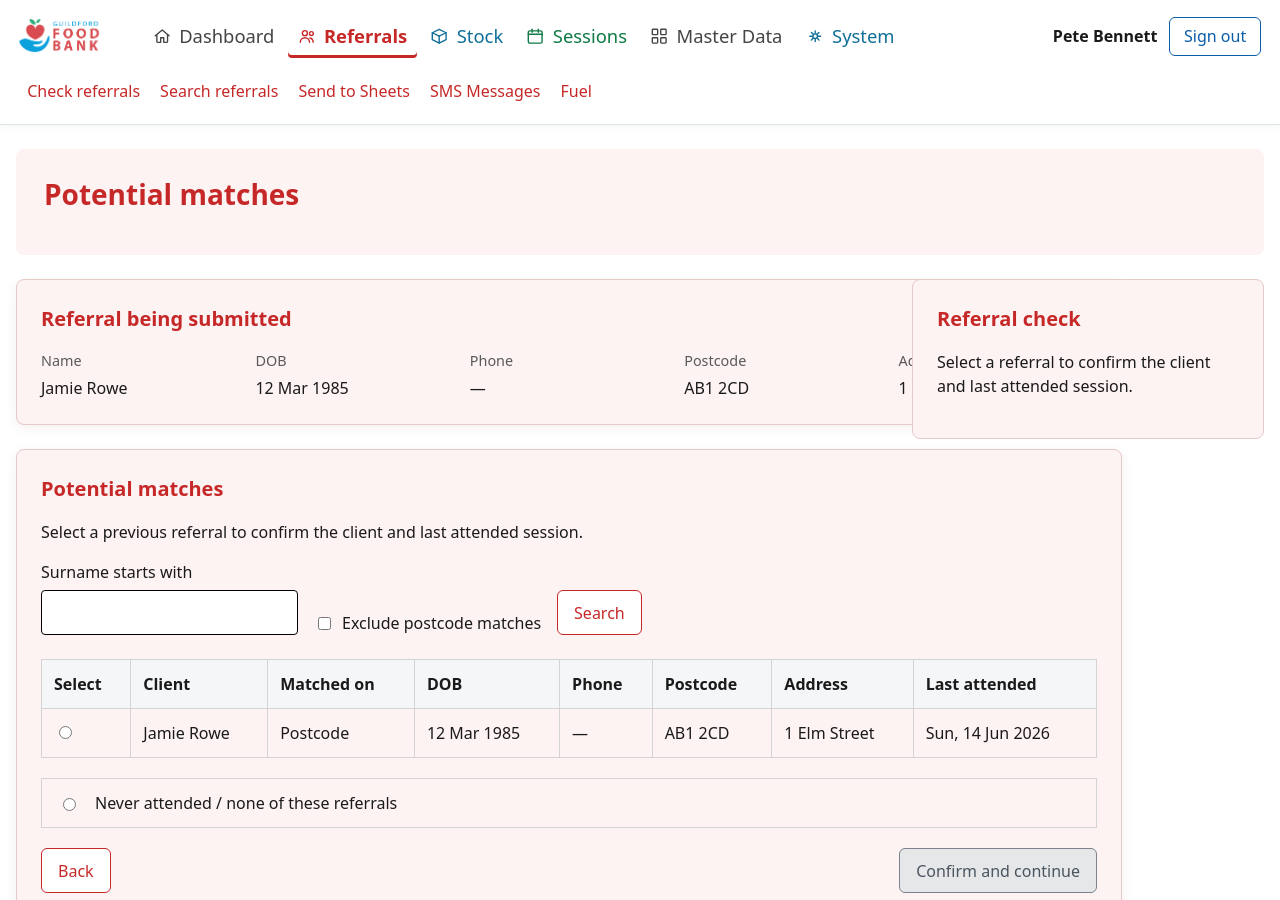
it: the admin referral detail screen › returns to the referral with a previous-referrals summary and revisit link after saving
Click the radio button named "Select Jamie Rowe": coordinates (66, 733) [59,726,72,739]
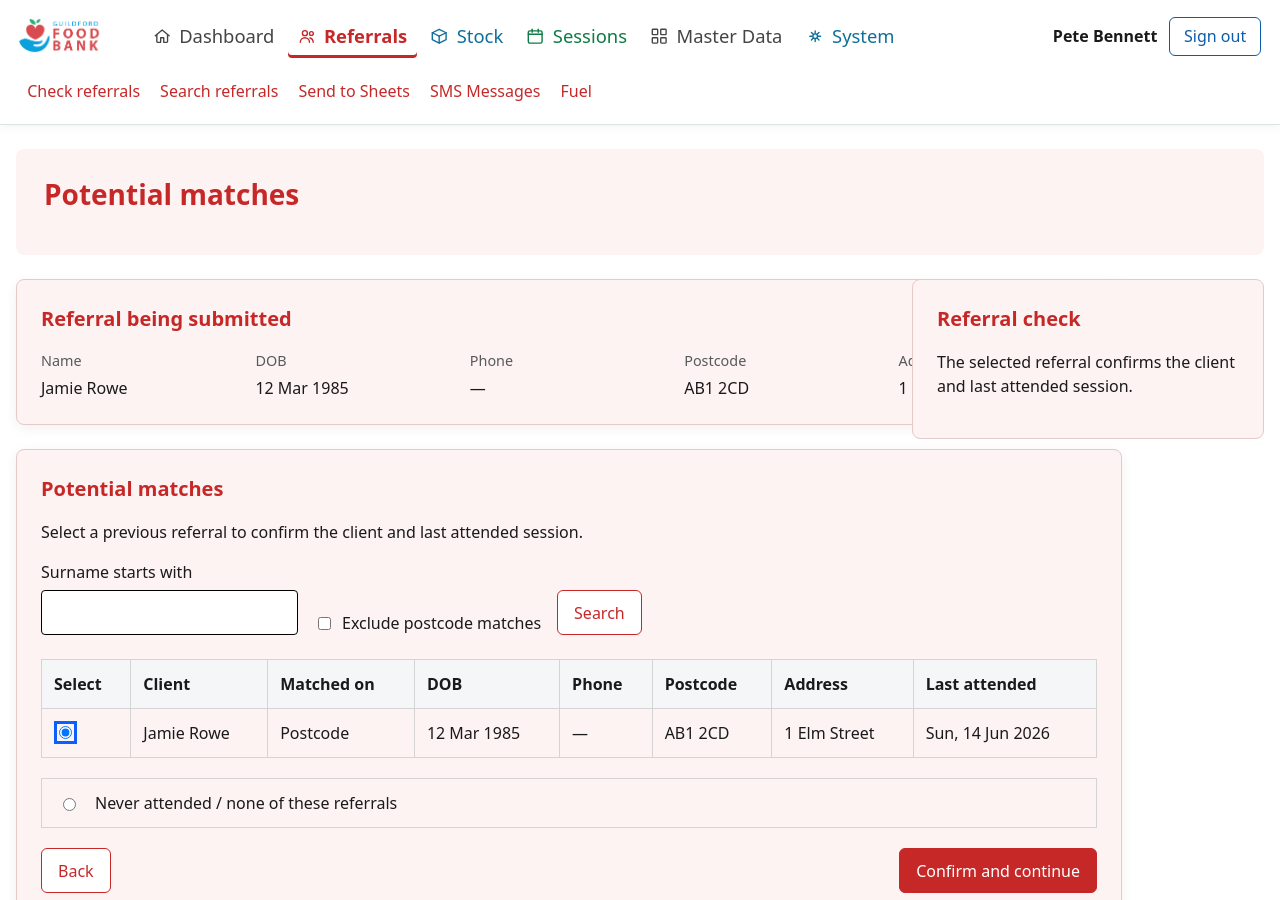
Click the button "Confirm and continue": coordinates (998, 871) [899,848,1097,893]
(page scrolled)
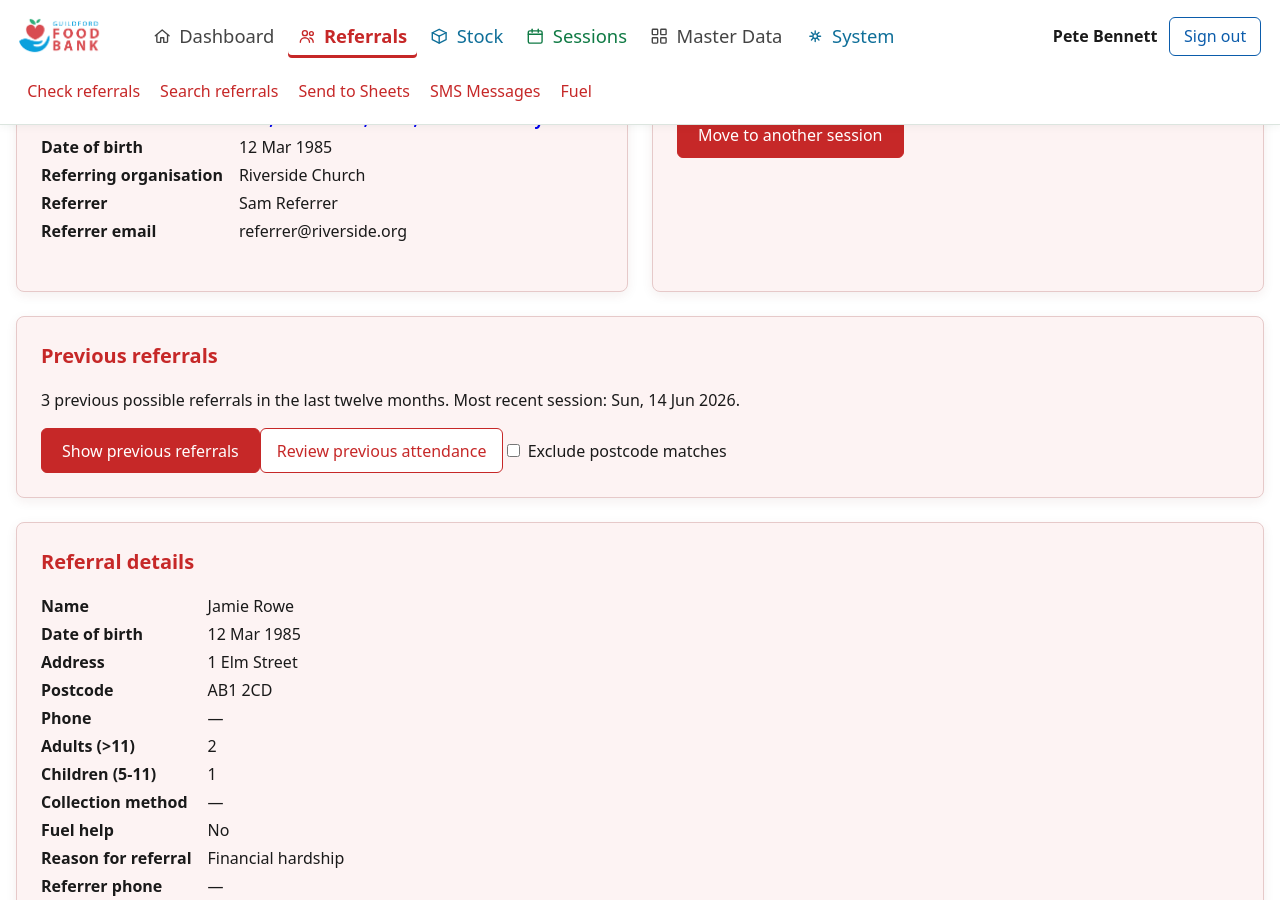
Result: the text "3 previous possible referrals" is shown at [41,389,449,411]
Click the link "Review previous attendance": coordinates (382, 450) [260,428,504,473]
(page scrolled)
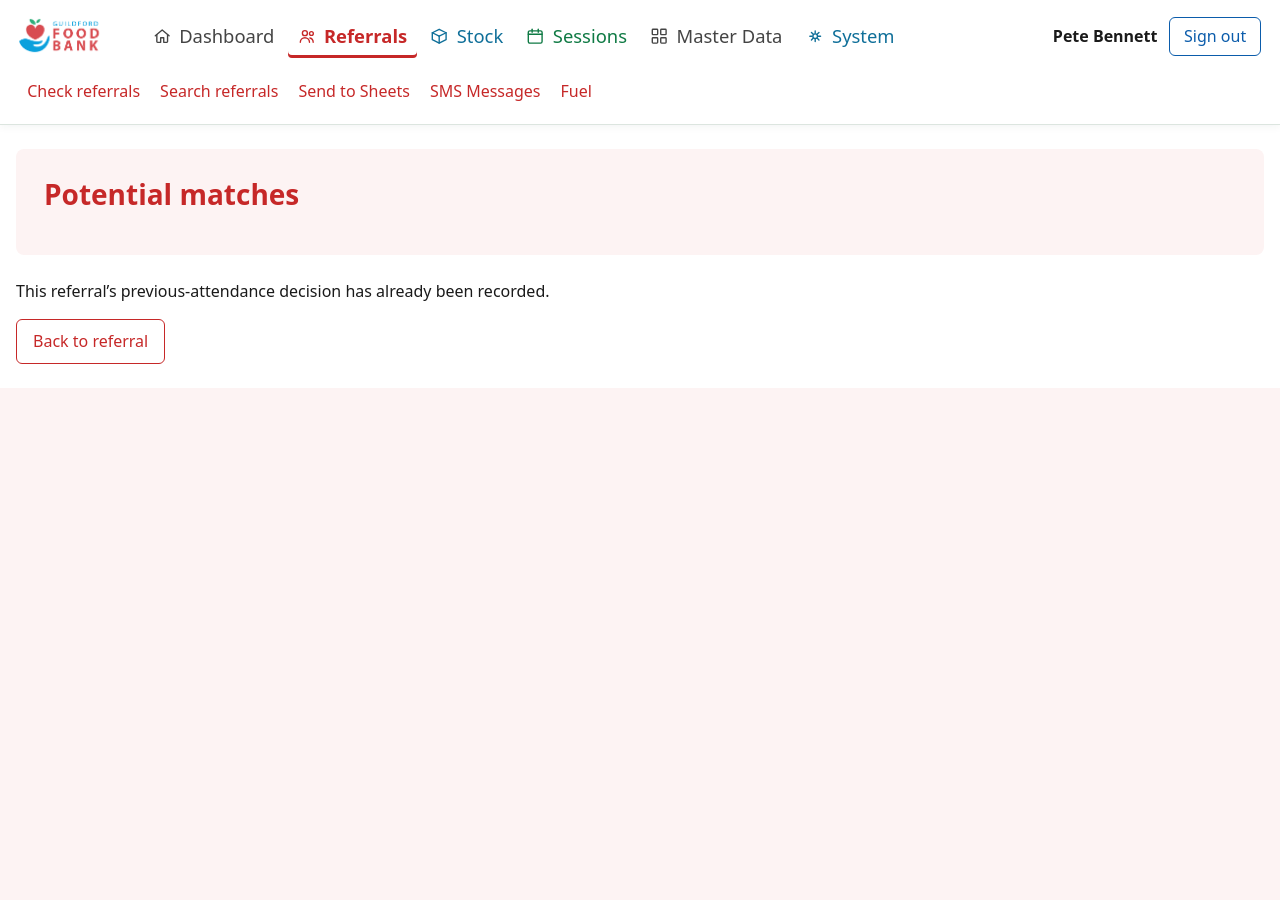
Result: the text "This referral’s previous-attendance decision has already been recorded." is shown at [16,280,550,302]
Click the link "Back to referral": coordinates (91, 341) [16,319,165,364]
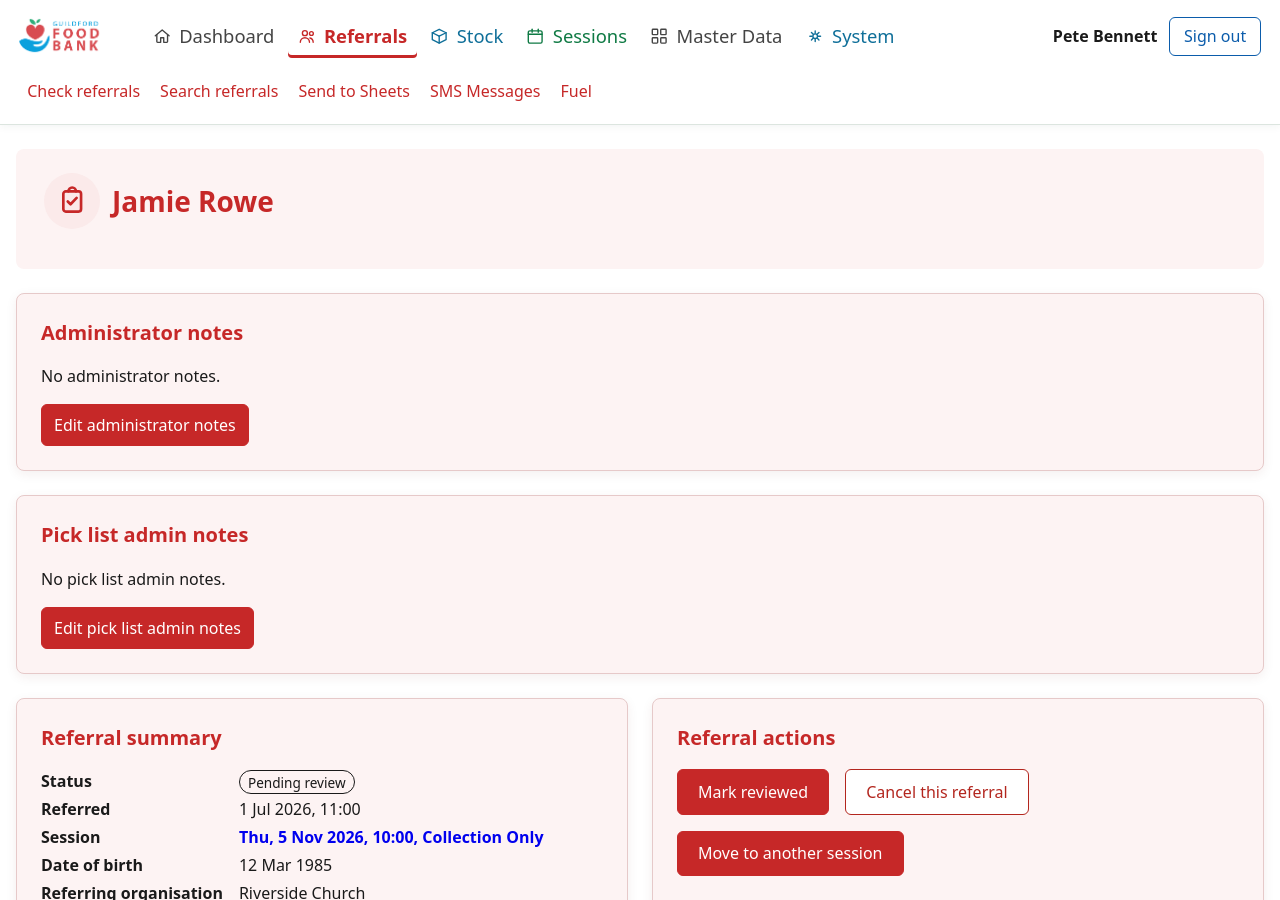
Result: the heading "Jamie Rowe" is shown at [112,180,274,222]
